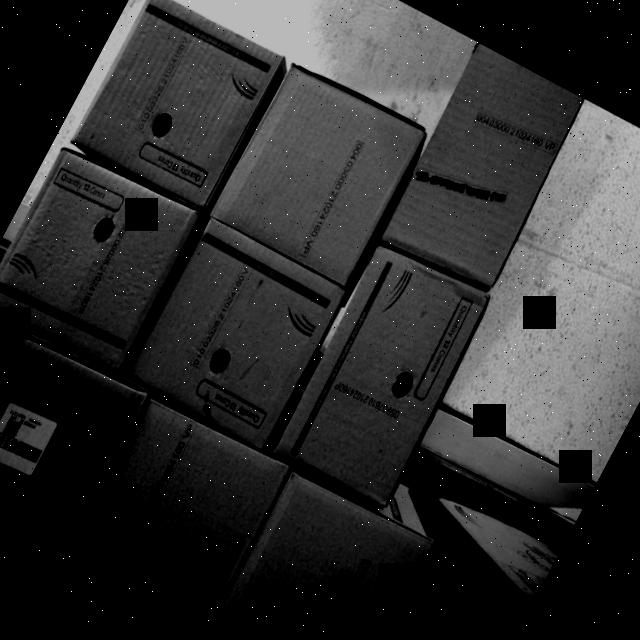box: (274, 241, 496, 511), (380, 42, 592, 288), (128, 215, 348, 446), (71, 393, 292, 622), (210, 61, 429, 290), (0, 142, 203, 370), (74, 0, 288, 205), (215, 467, 436, 640), (0, 313, 144, 546)
